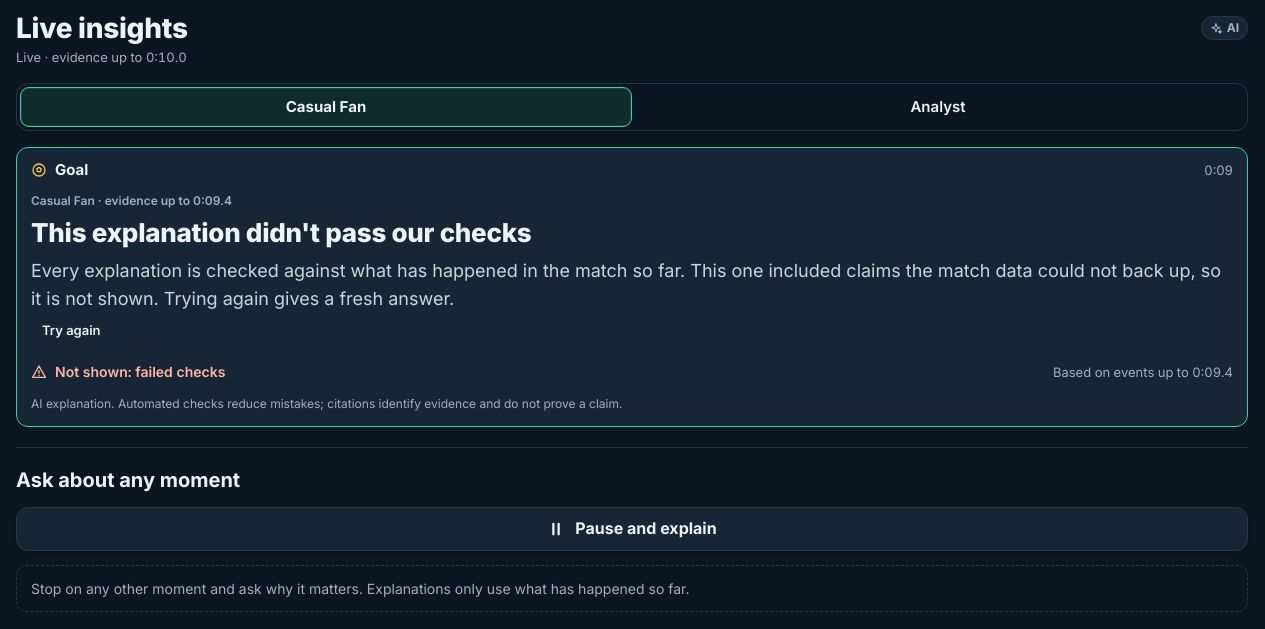
live insights › offers a retry on an insight that failed its checks and replaces it with the new answer
The width and height of the screenshot is (1265, 629).
Click the button "Try again": {"x": 71, "y": 330} [31,314,112,346]
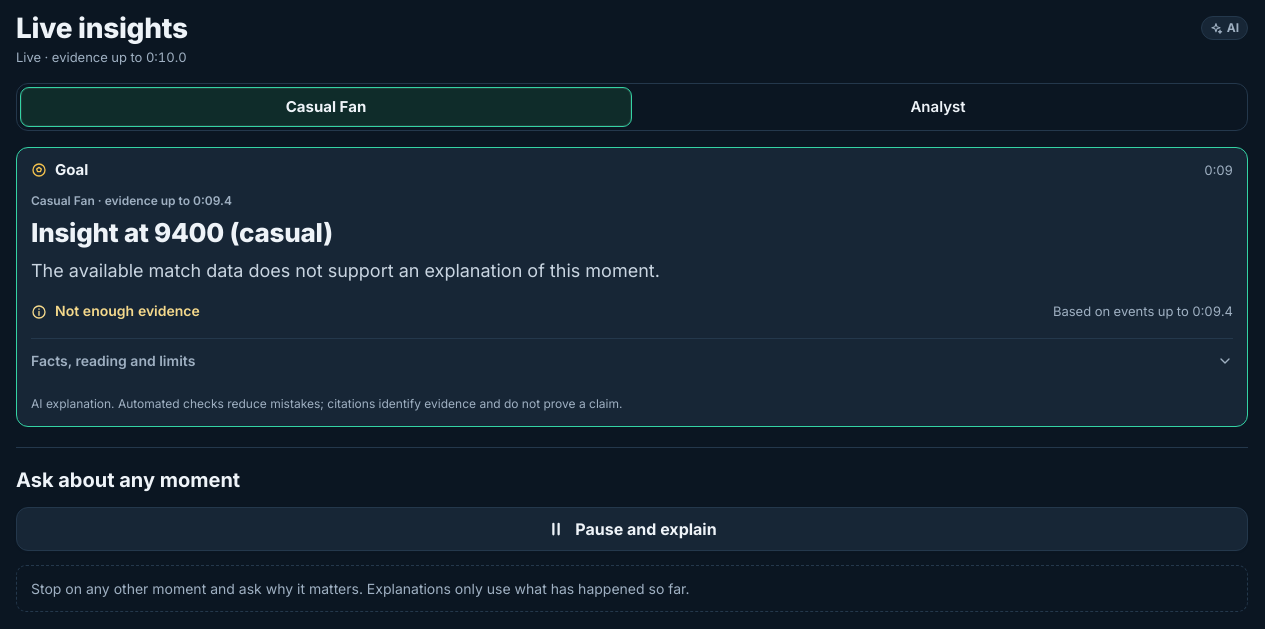
Check: the heading with class "insights" no longer shows "didn't pass our checks"
